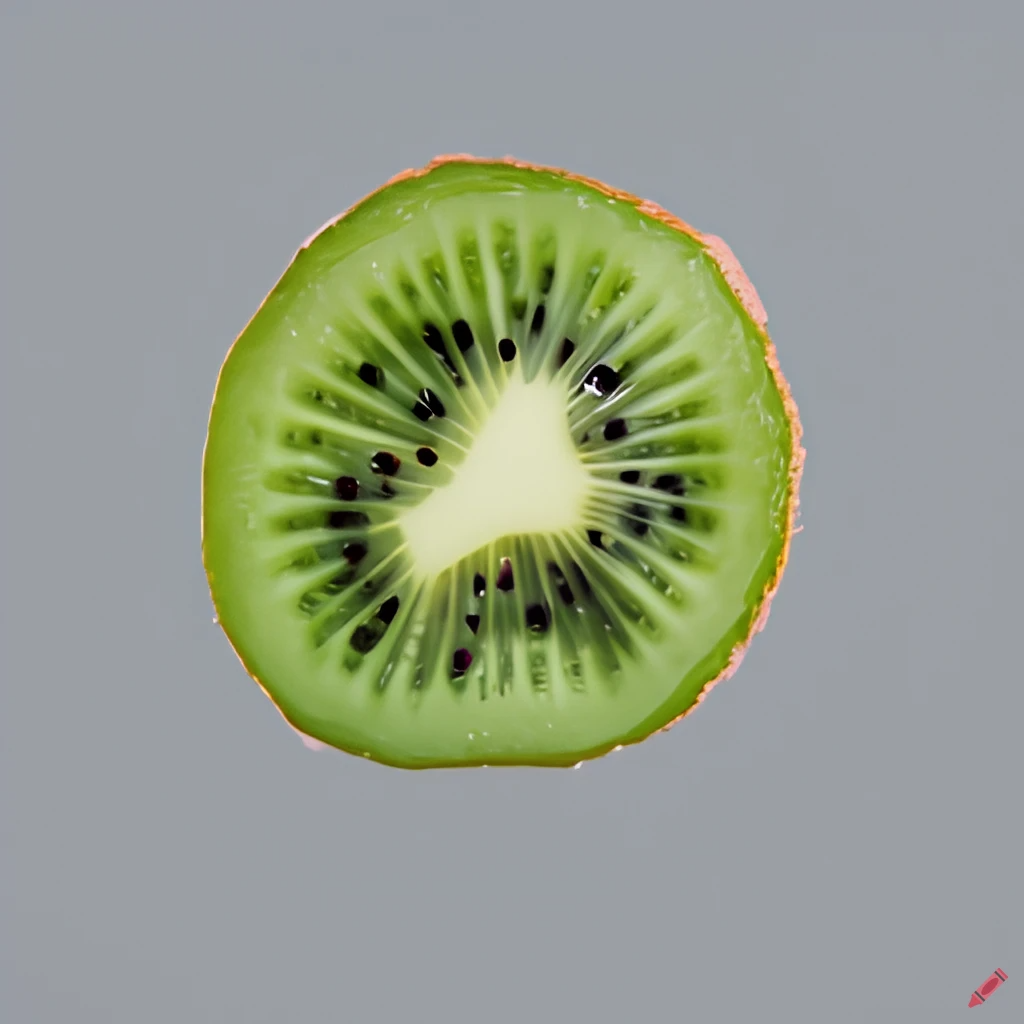Kiwi: (89, 144, 836, 834)
